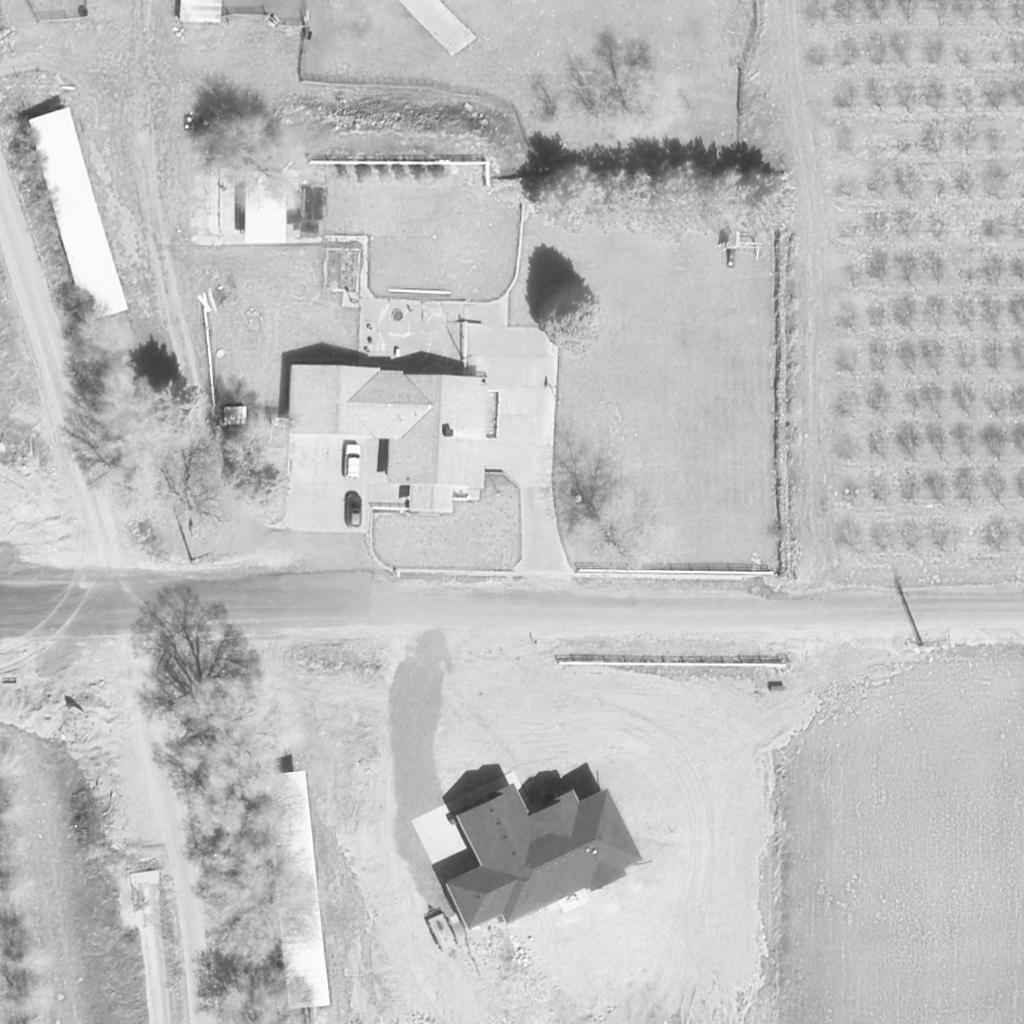vehicle: (343, 442, 361, 480), (344, 491, 362, 529)
